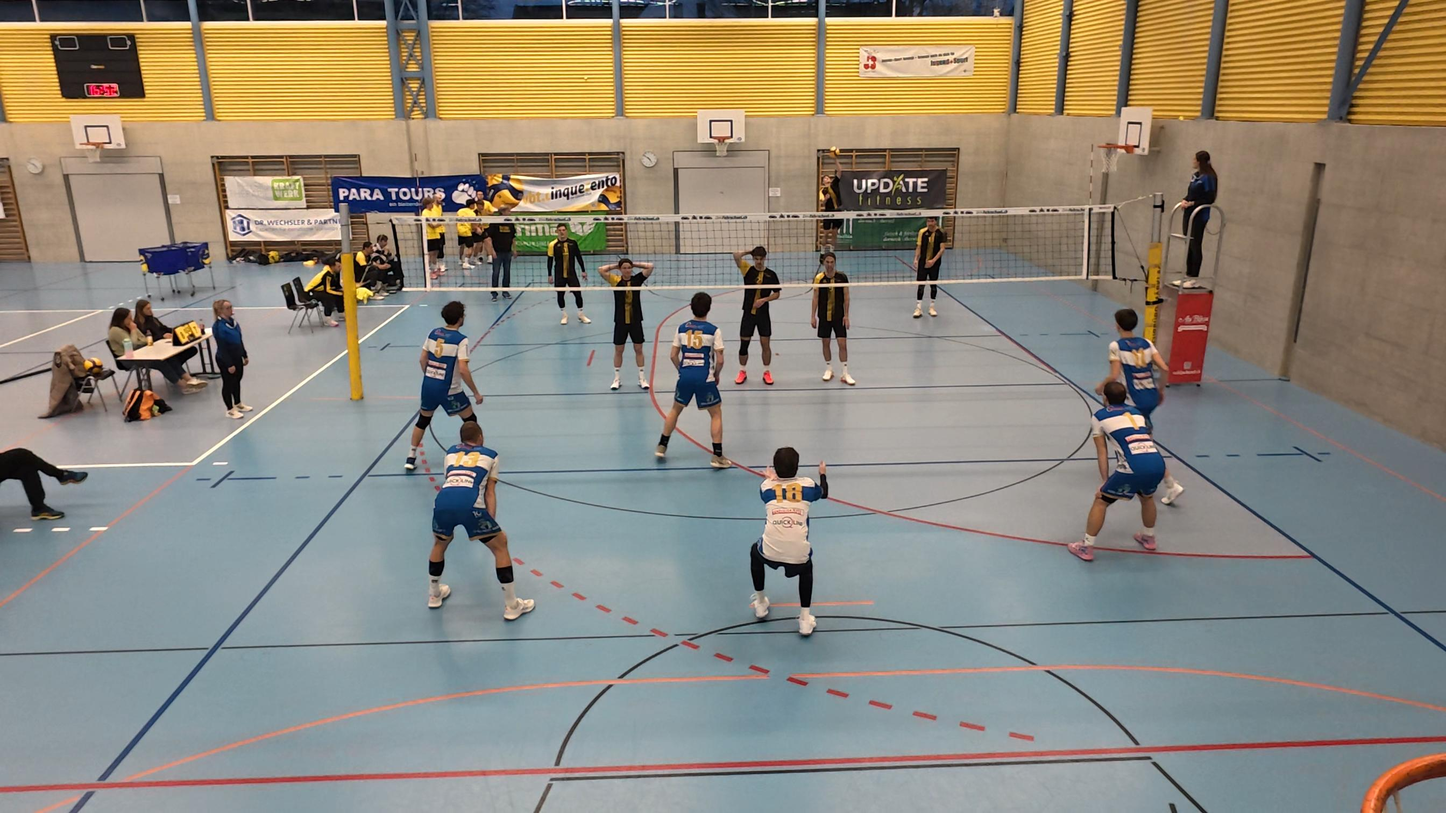Player: (426, 414, 535, 620), (743, 444, 835, 638), (1073, 379, 1168, 559), (1101, 308, 1186, 504), (651, 293, 732, 467), (402, 299, 480, 476), (601, 258, 655, 392), (732, 246, 783, 386), (808, 250, 855, 386), (545, 225, 589, 327), (909, 214, 951, 318)
Serve: (813, 147, 846, 265)
ball: (825, 145, 842, 161)
